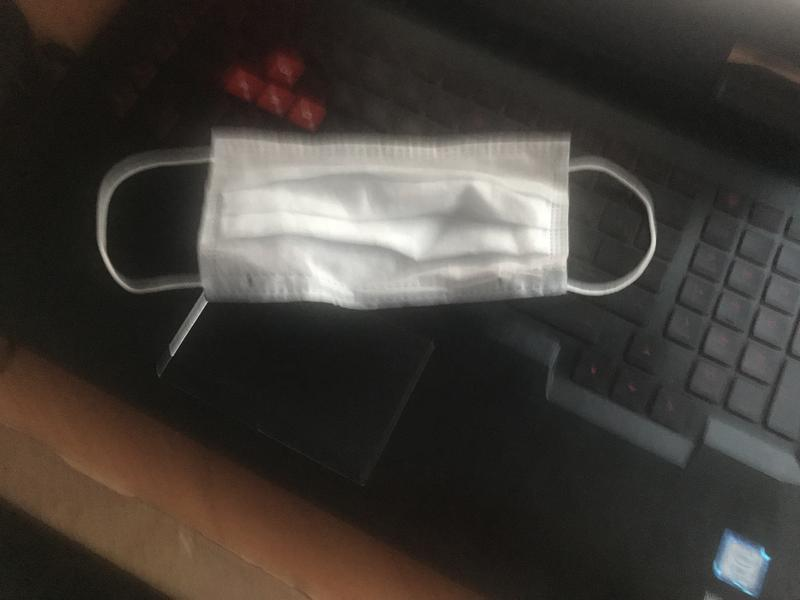medical_mask: (96, 133, 656, 301)
